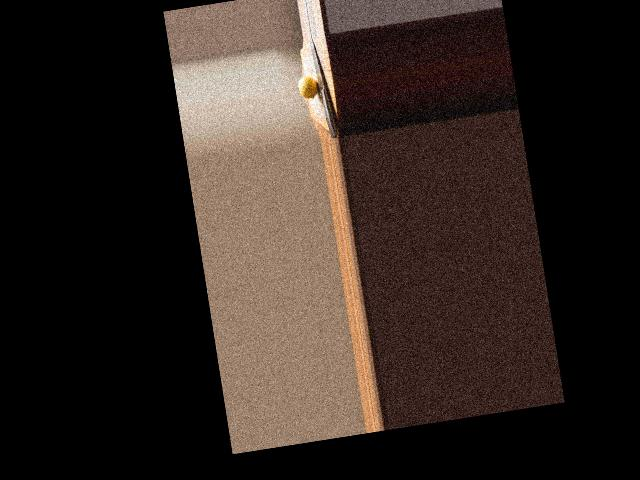lemon: (295, 74, 319, 102)
